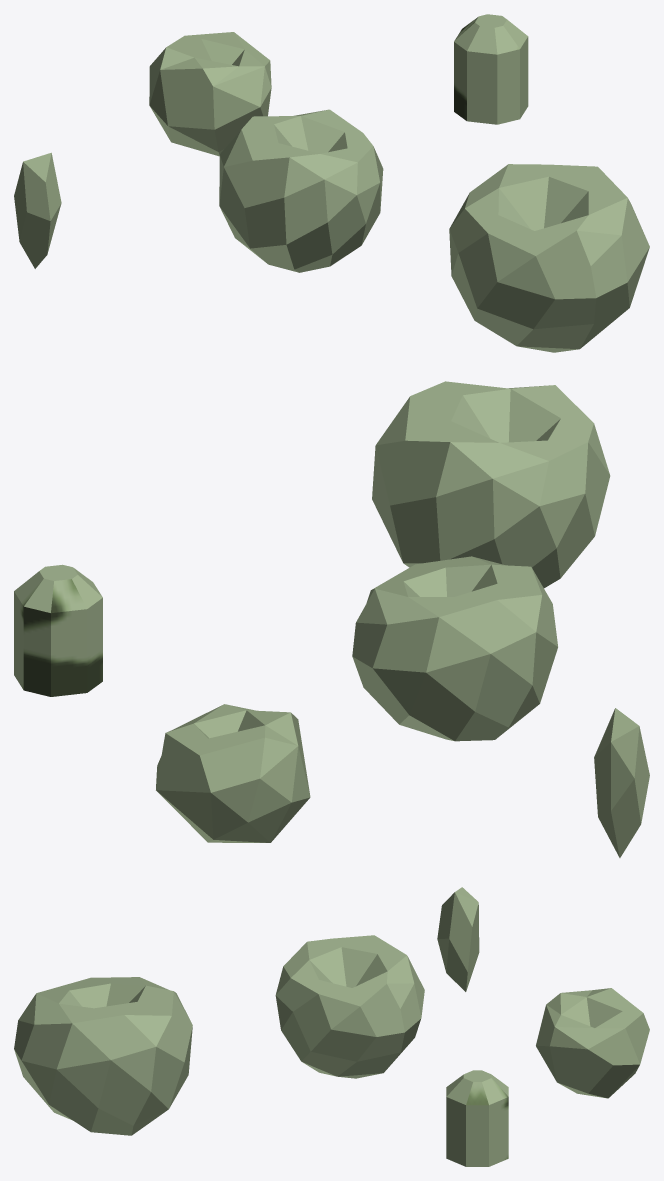
File: EA_Swamp_Fruit_02b.glb
3 views of the same model, one above another, from view 1: azimuth 30°, elevation 25°; view 2: azimuth 150°, elevation 25°; view 3: azimuth 270°, elevation 25° (orthographic). The views are drawn at different scales.
Visible parts, largest first — view 1: EA_Swamp_Fruit_02b; view 2: EA_Swamp_Fruit_02b; view 3: EA_Swamp_Fruit_02b.
Part boxes in pixels (x1,y1,x2,y2): EA_Swamp_Fruit_02b: [14, 14, 649, 352]; EA_Swamp_Fruit_02b: [14, 381, 649, 857]; EA_Swamp_Fruit_02b: [14, 887, 649, 1166].
Bounding box in the file's own units: 0.8432 × 0.2534 × 1.03.
Materials: 1 (1 with a texture image).
